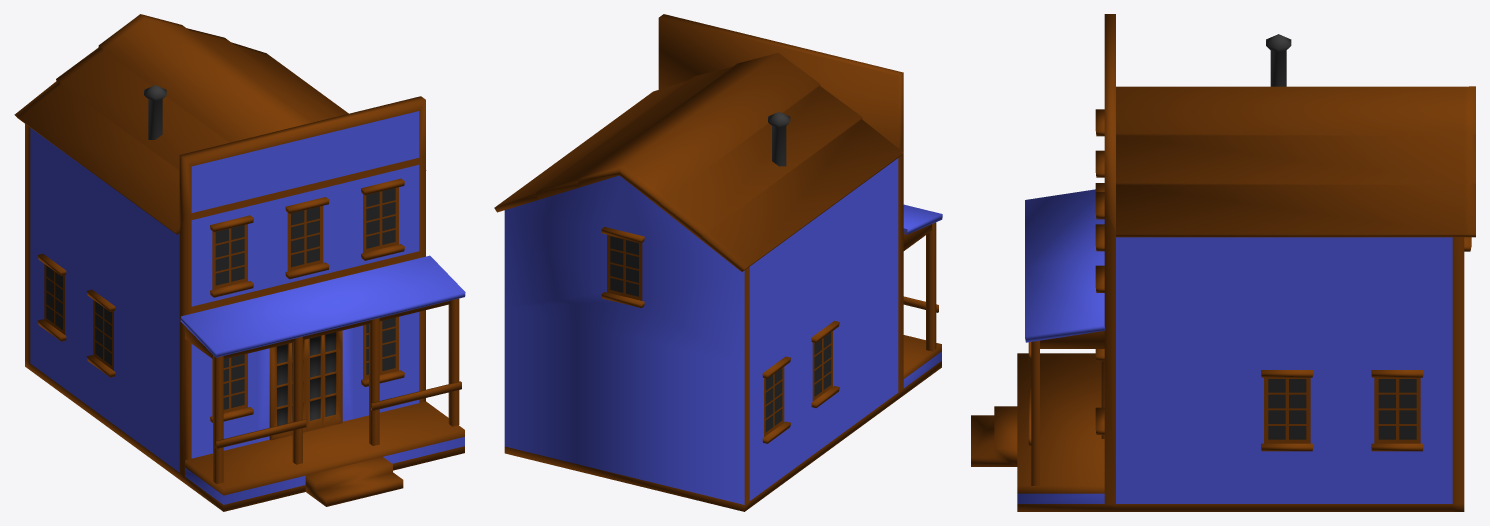
The model's file is Western_BankBlue.fbx.
The picture shows the model from 3 angles, left to right: view 1: azimuth 30°, elevation 25°; view 2: azimuth 150°, elevation 25°; view 3: azimuth 270°, elevation 25°; orthographic projection. The views are drawn at different scales.
Parts seen in each view (by area): view 1: WesternBuilding_Bank_Blue; view 2: WesternBuilding_Bank_Blue; view 3: WesternBuilding_Bank_Blue.
Boxes of the visible parts, x1,y1,x2,y2 form: WesternBuilding_Bank_Blue: [14, 14, 465, 511]; WesternBuilding_Bank_Blue: [494, 14, 942, 511]; WesternBuilding_Bank_Blue: [971, 14, 1475, 511].
Bounding box in the file's own units: 565 × 707 × 870.
1 material, 1 textured.
